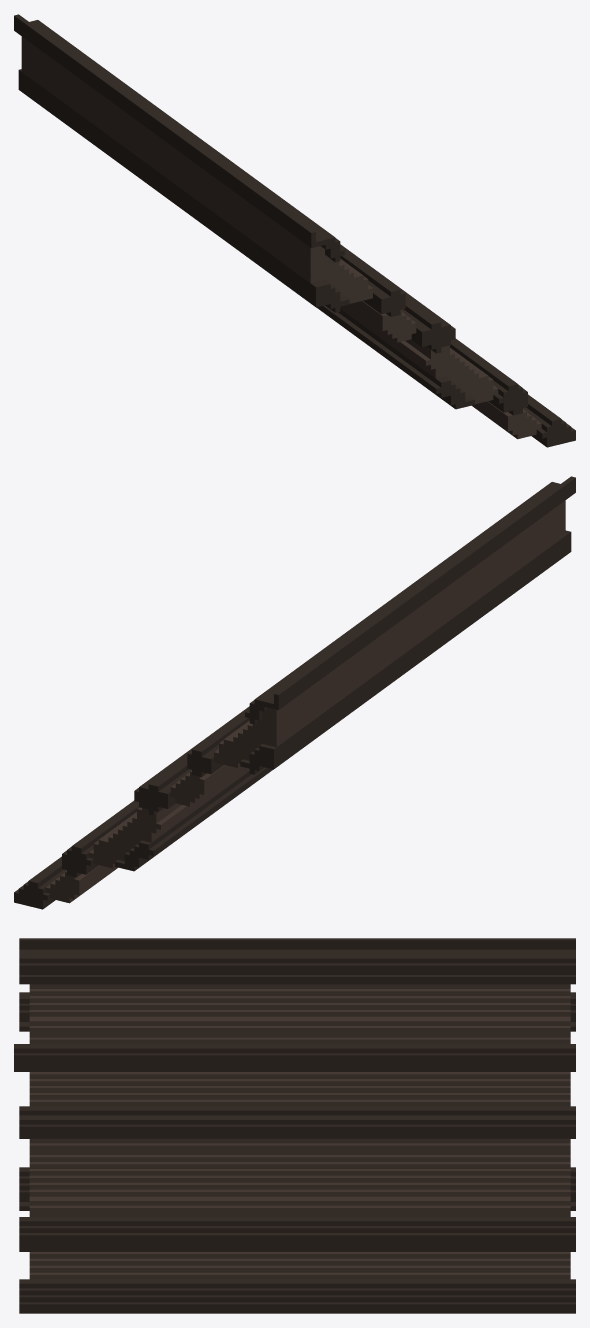
The model's file is RoofEmpty.obj.
3 renders of one model, top to bottom at view 1: azimuth 30°, elevation 25°; view 2: azimuth 150°, elevation 25°; view 3: azimuth 270°, elevation 25°, orthographic. The views are drawn at different scales.
Bounding box in the file's own units: 5.5 × 5.4 × 10.8.
1 material, 1 textured.
